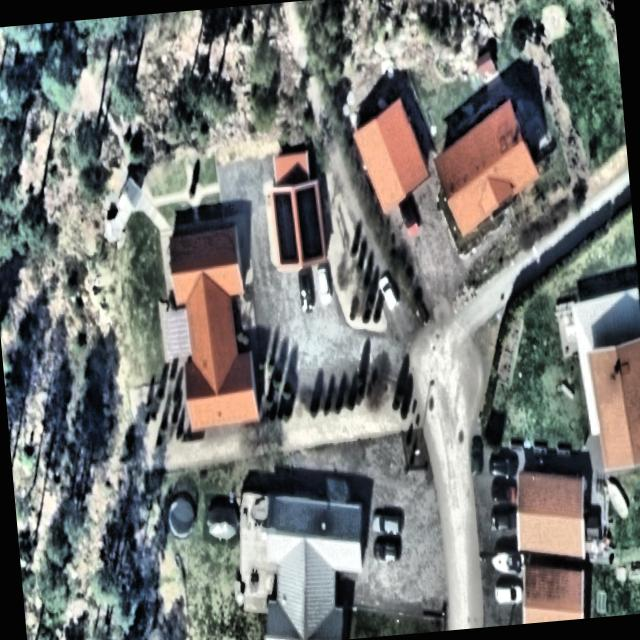roof_pv: (295, 182, 325, 262), (272, 189, 299, 267)
